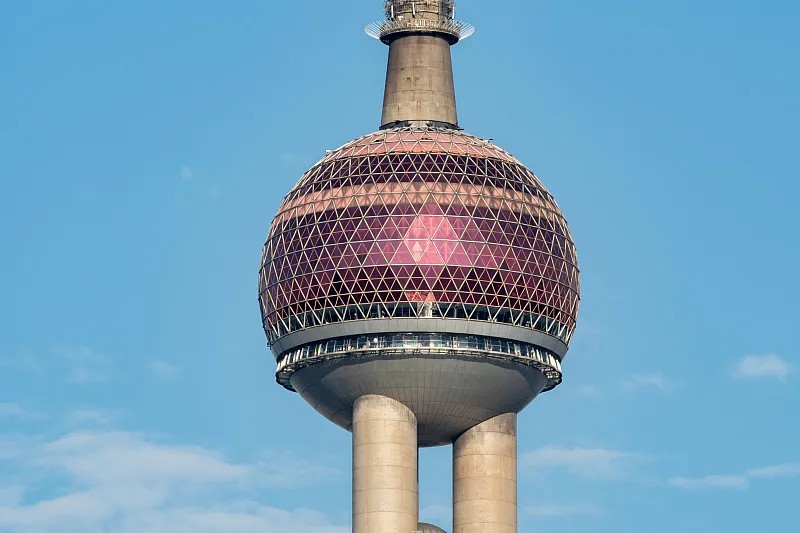Oriental: (258, 1, 582, 533)
